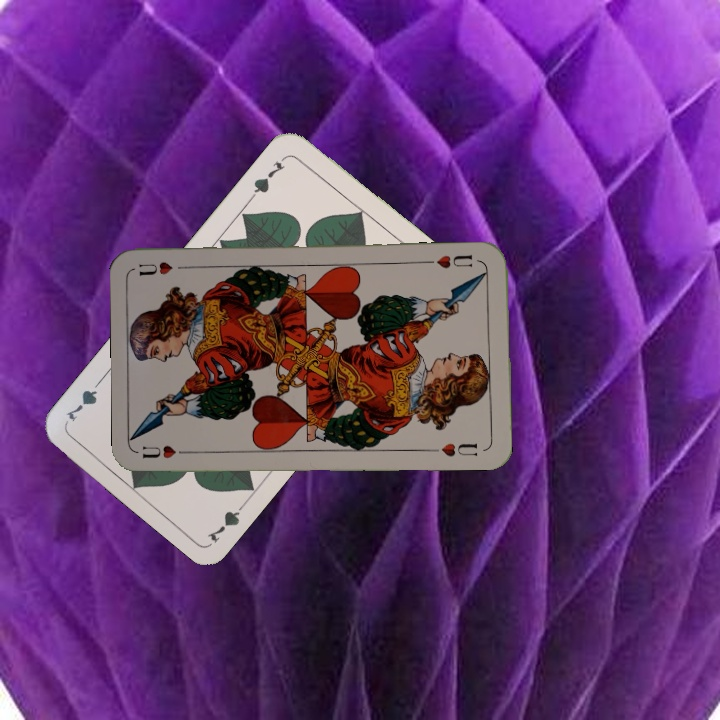G7: (203, 495, 251, 546), (247, 152, 290, 201)
HU: (138, 441, 196, 461), (424, 251, 475, 271)
